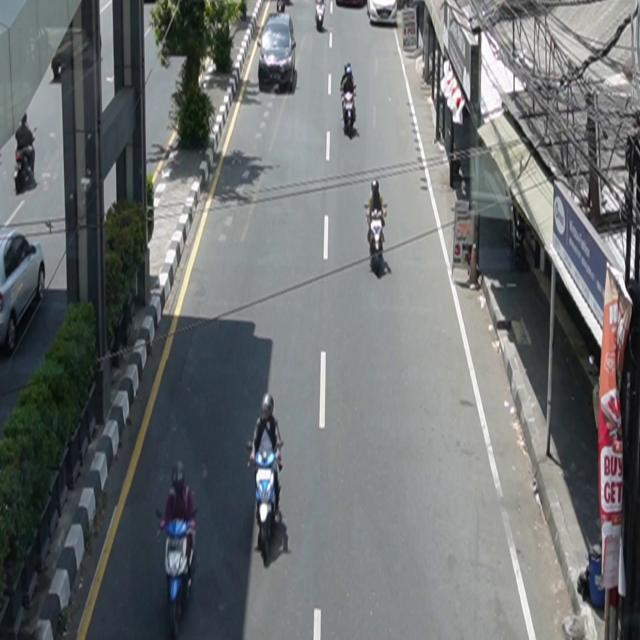car: (1, 227, 46, 355), (259, 13, 297, 93), (367, 1, 398, 26)
